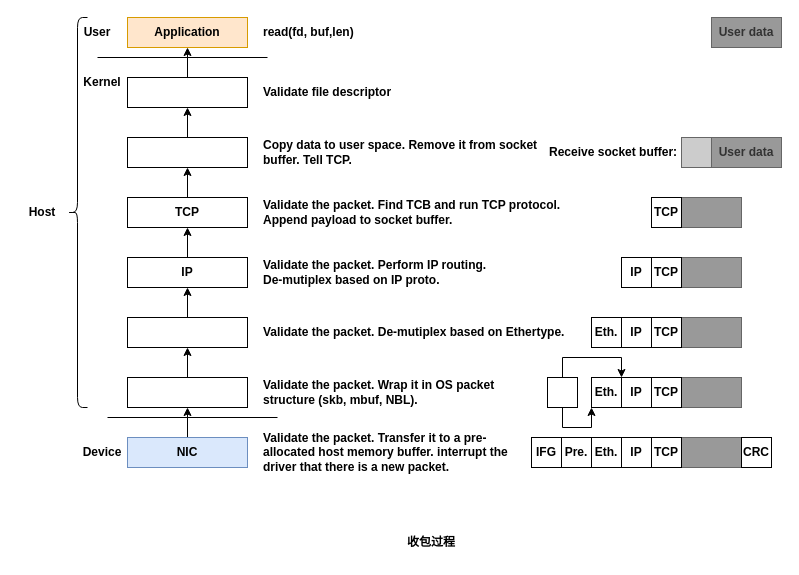
Some shapes in this 799 by 575 pixel diagram are drawn without their labels. The box of each missing label's shape, as (x1, y1, x2, y2) in pixels:
Driver: (126, 376, 248, 408)
Ethernet: (126, 316, 248, 348)
File: (126, 76, 248, 108)
skb: (546, 376, 578, 408)
Sockets: (126, 136, 248, 168)
